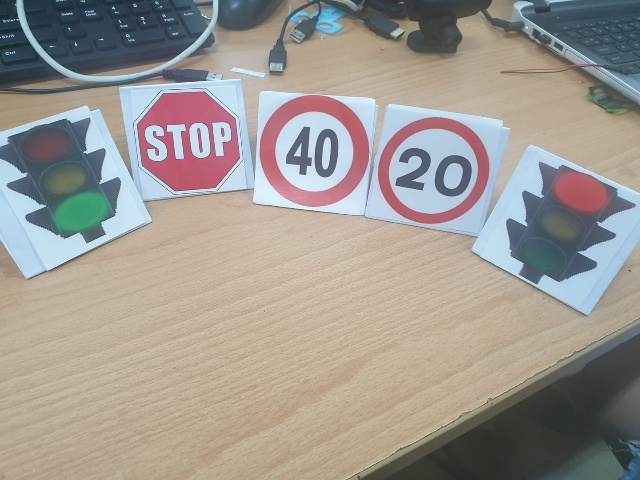Green: (3, 118, 124, 245)
Limit 20: (378, 112, 487, 225)
Limit 40: (256, 95, 370, 210)
Red: (511, 159, 633, 298)
Stop: (132, 86, 247, 199)
